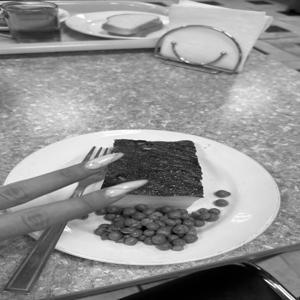bread: (102, 8, 164, 43)
casserole: (63, 123, 229, 249)
